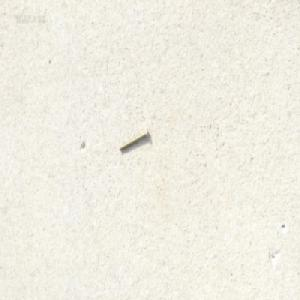Bolt: (118, 128, 149, 151)
